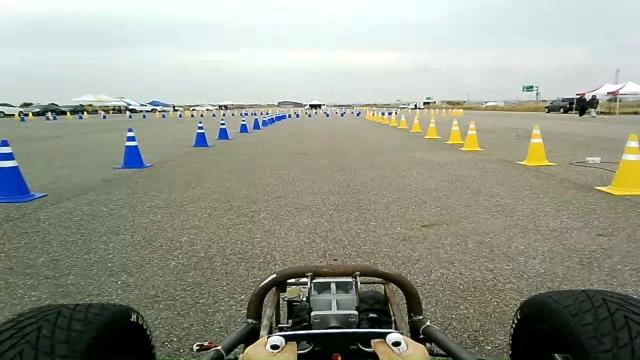blue cone: (0, 139, 48, 203), (112, 127, 153, 169), (189, 121, 213, 148), (215, 118, 233, 140), (238, 118, 250, 133), (252, 117, 262, 130), (274, 114, 286, 122), (260, 118, 268, 127), (266, 117, 274, 125)
yellow cone: (594, 132, 639, 195), (515, 124, 557, 166), (458, 120, 483, 151), (444, 118, 464, 144), (423, 118, 441, 138), (409, 110, 423, 132), (396, 114, 408, 130), (388, 114, 398, 127), (372, 112, 381, 122), (381, 114, 390, 124), (365, 109, 372, 120)
